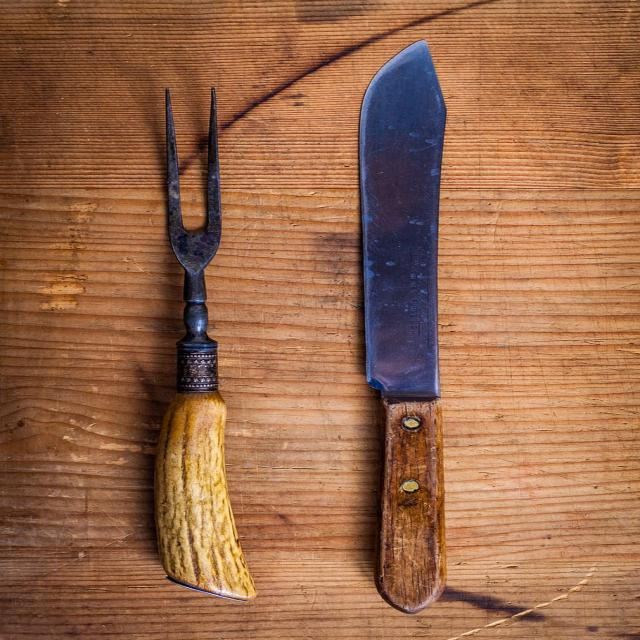knife: (360, 36, 450, 616)
